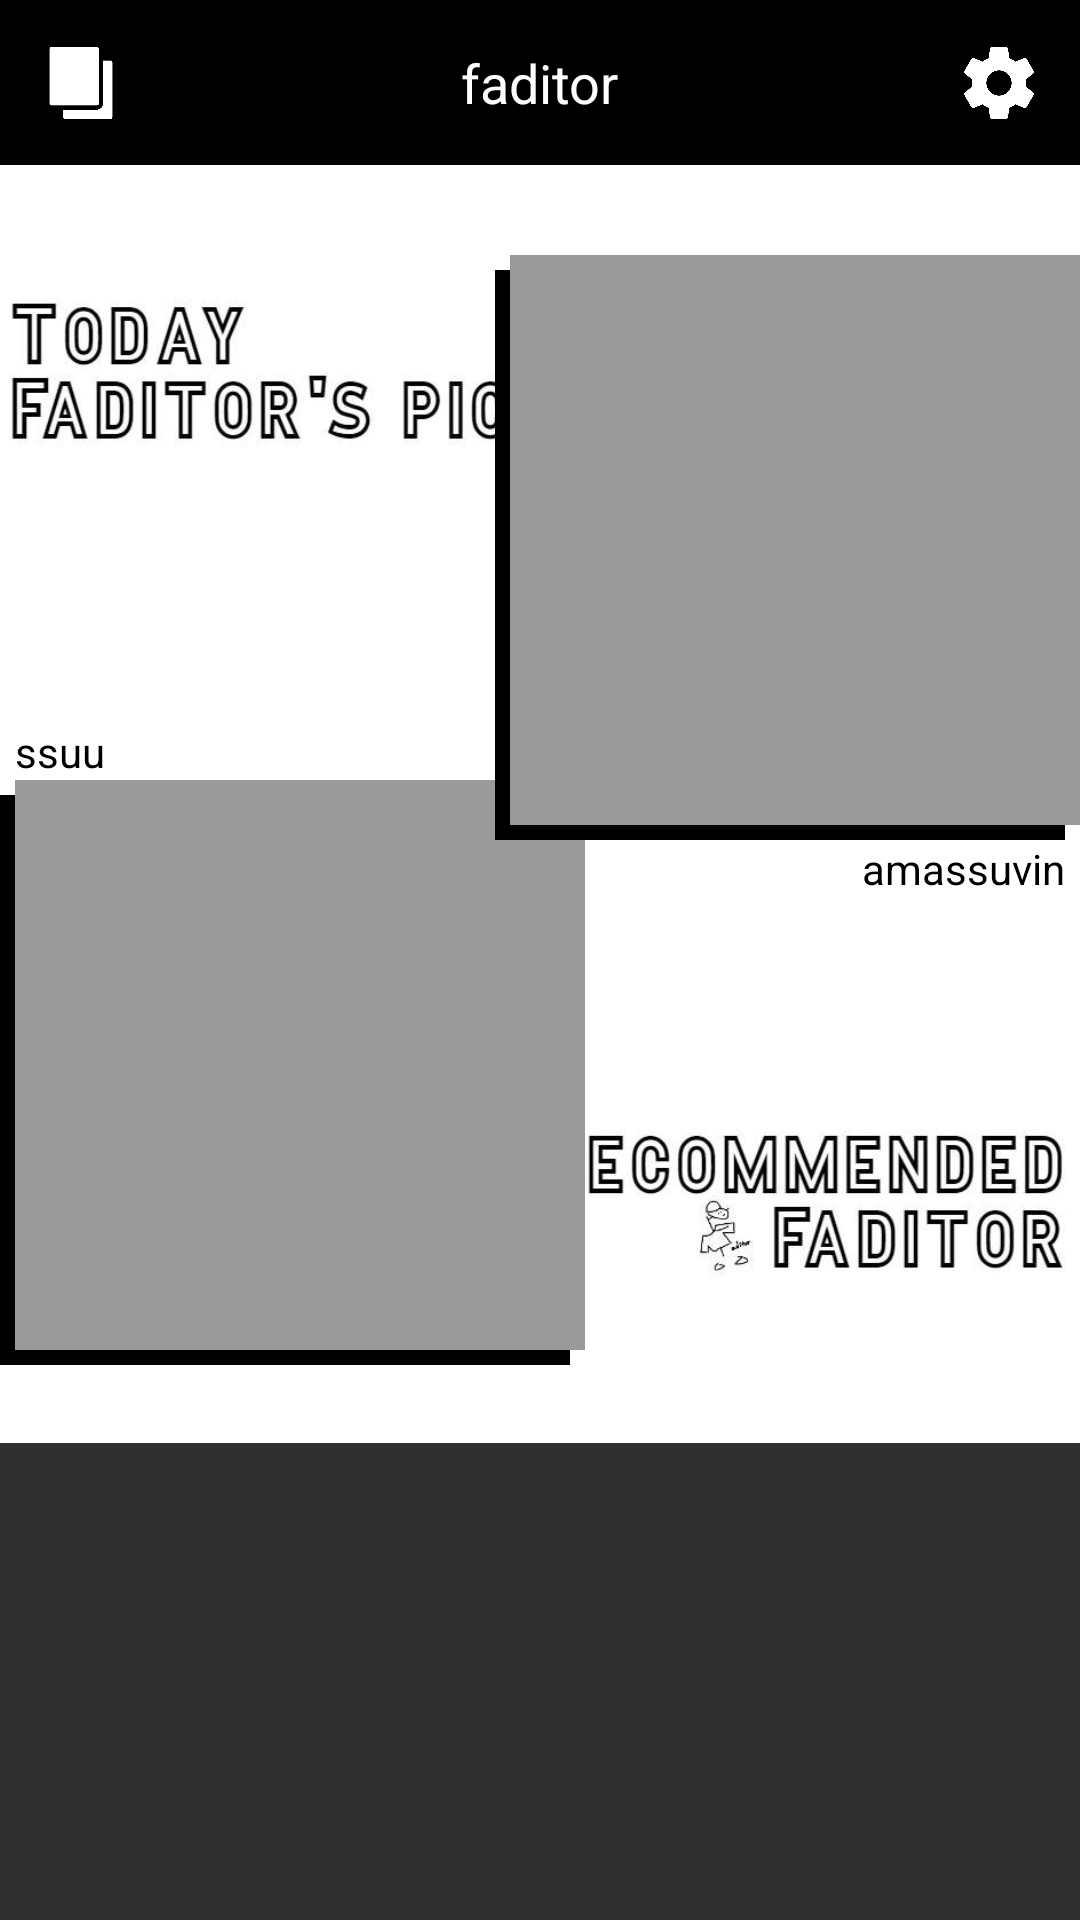

Named icons in this screenshot (1080 x 1920) and their centers, [x,y]:
paper on: [81,83]
setting: [999,83]
